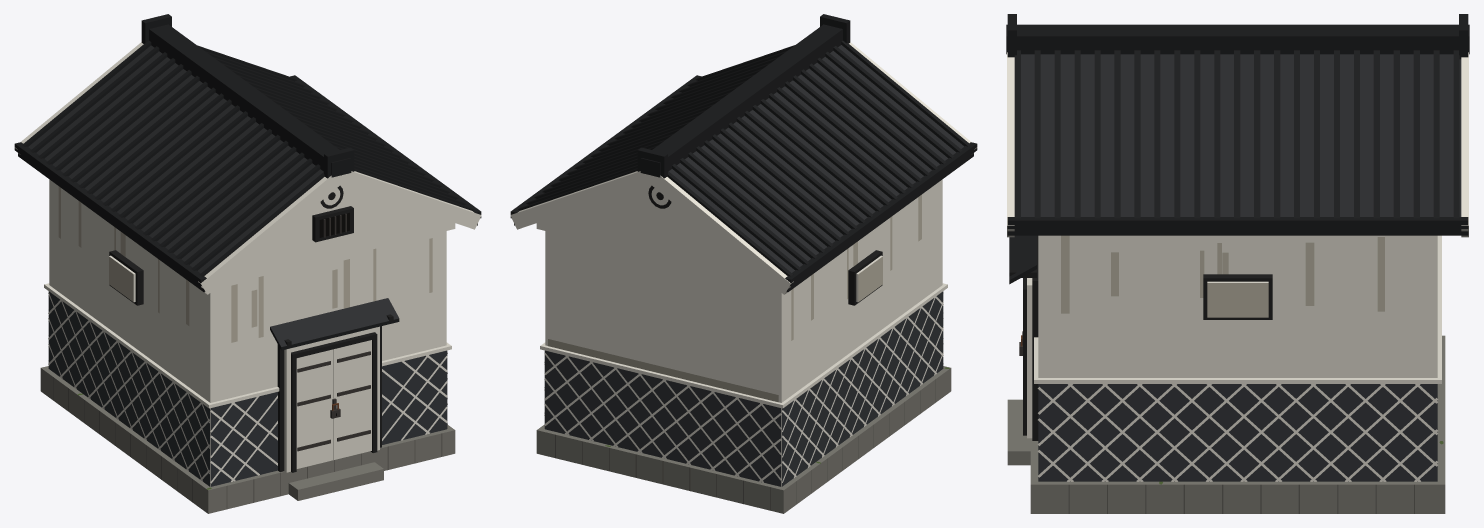
The model's file is kura.glb.
3 views of the same model, side by side, from view 1: azimuth 30°, elevation 25°; view 2: azimuth 150°, elevation 25°; view 3: azimuth 270°, elevation 25° (orthographic). The views are drawn at different scales.
Visible parts, largest first — view 1: kura; view 2: kura; view 3: kura.
Boxes of the visible parts, x1,y1,x2,y2 form: kura: (14,14,481,513); kura: (510,14,977,513); kura: (1006,14,1469,513).
Bounding box in the file's own units: 5.23 × 6 × 6.04.
